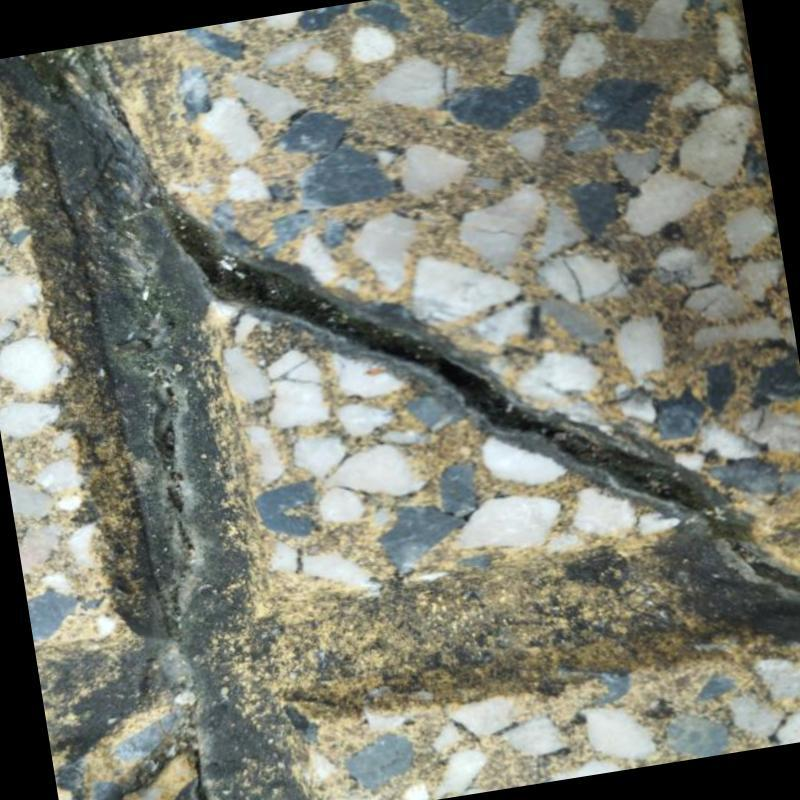crack: (165, 205, 800, 591)
